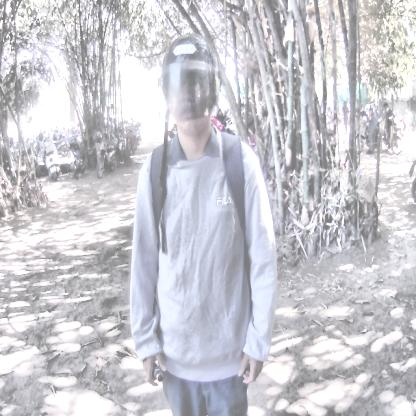wear: (162, 33, 221, 133)
